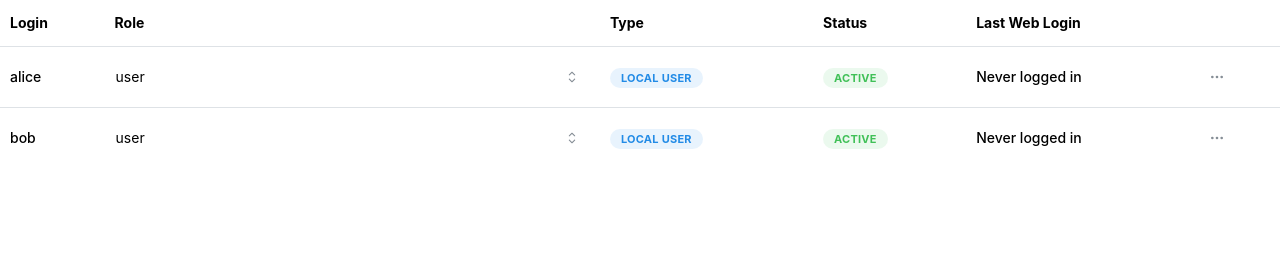
Test case: ListUsers › update user › reverts the role select and shows the error when the role change fails
Click the field named "Role of alice".
click(352, 77)  # box [115,59,590,95]
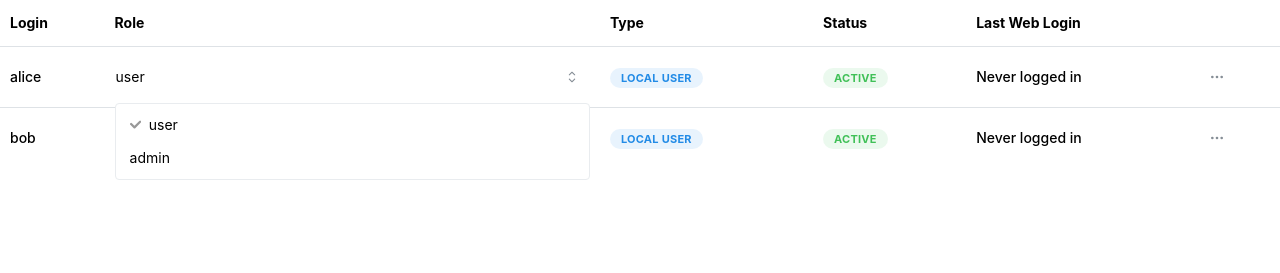
Click the option "admin".
click(150, 158)  # box [130,149,170,166]
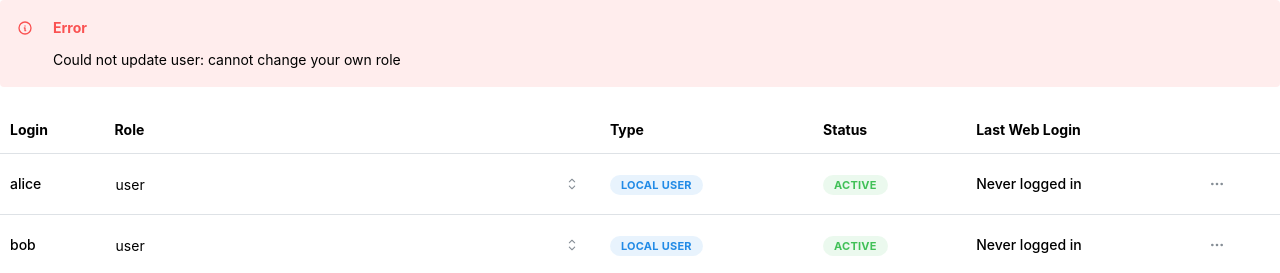
expect the field named "Role of alice" holds "user": met, box [115,166,590,202]
expect the text "Could not update user: cannot change your own role" is shown: met, box [53,51,401,68]
